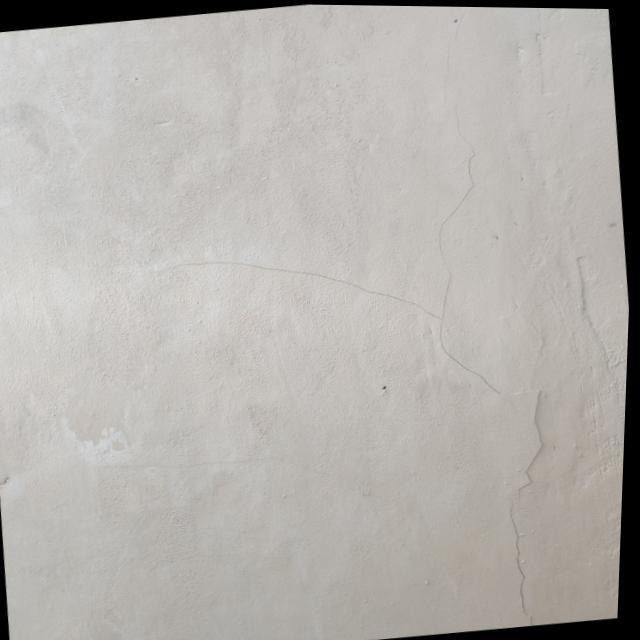Crack: (165, 114, 497, 391), (505, 389, 545, 621)
